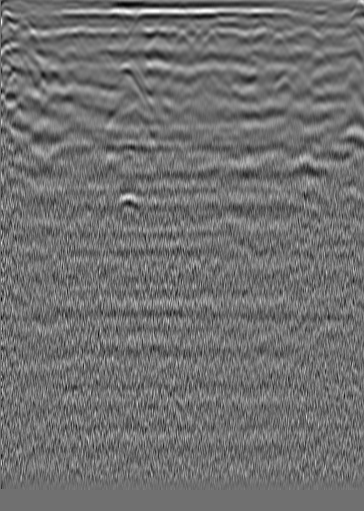가스: (111, 188, 142, 219)
상수: (19, 25, 39, 45)
오수: (309, 25, 329, 45)
우수: (172, 19, 192, 39)
